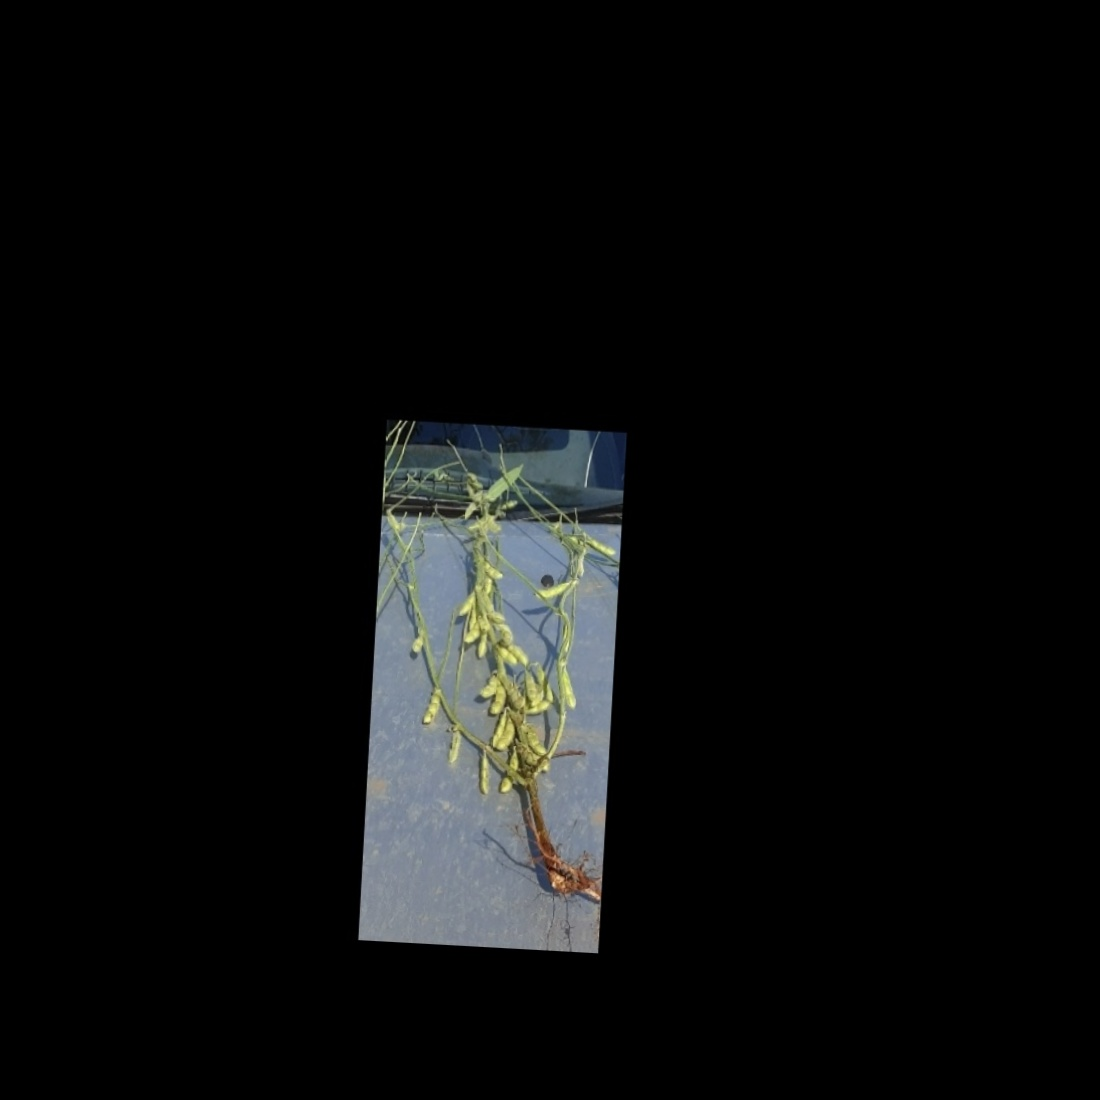pod: (557, 664, 582, 711), (420, 685, 444, 728), (532, 581, 574, 602), (476, 745, 494, 796), (485, 681, 510, 714), (444, 725, 463, 763), (476, 671, 502, 698)
soy: (367, 452, 618, 912)
